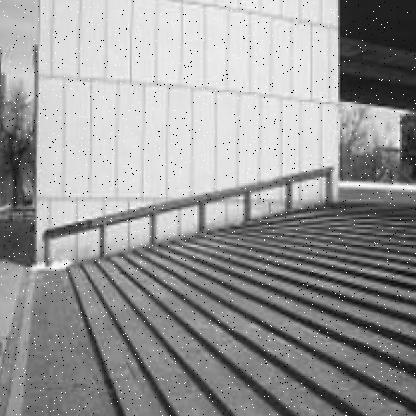stair_up: (140, 205, 416, 416)
